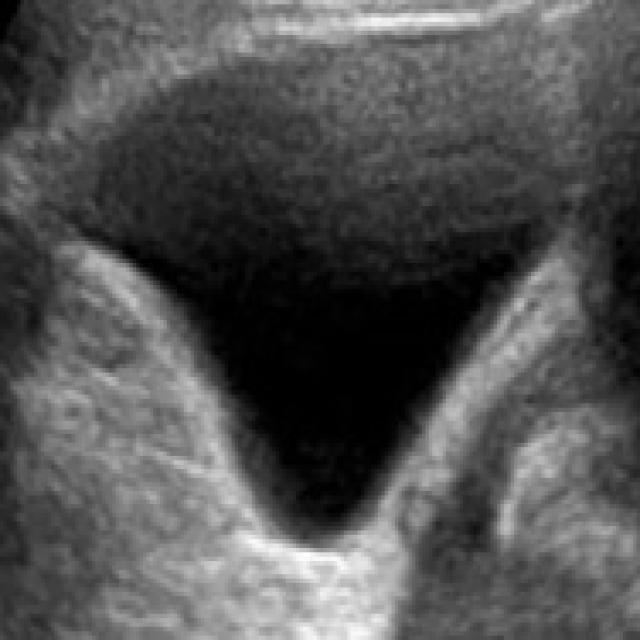bladder: (24, 21, 587, 622)
